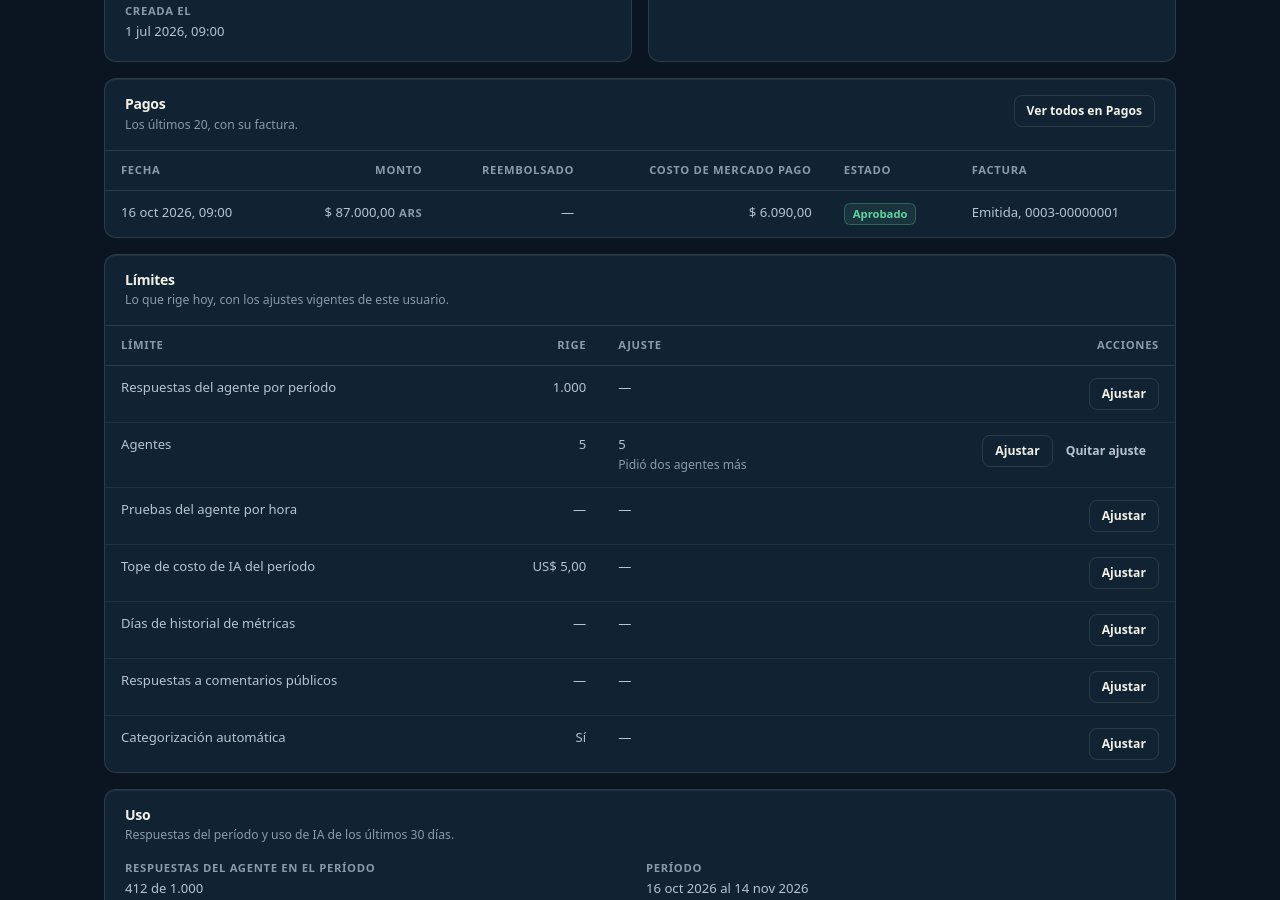
Test: CustomerDetailScreen › takes an override back with a reason and loads the detail again
(page scrolled)
Step 1. Click the button with aria-label "Quitar el ajuste de agentes" → (1106, 451), box [1053,435,1159,467]
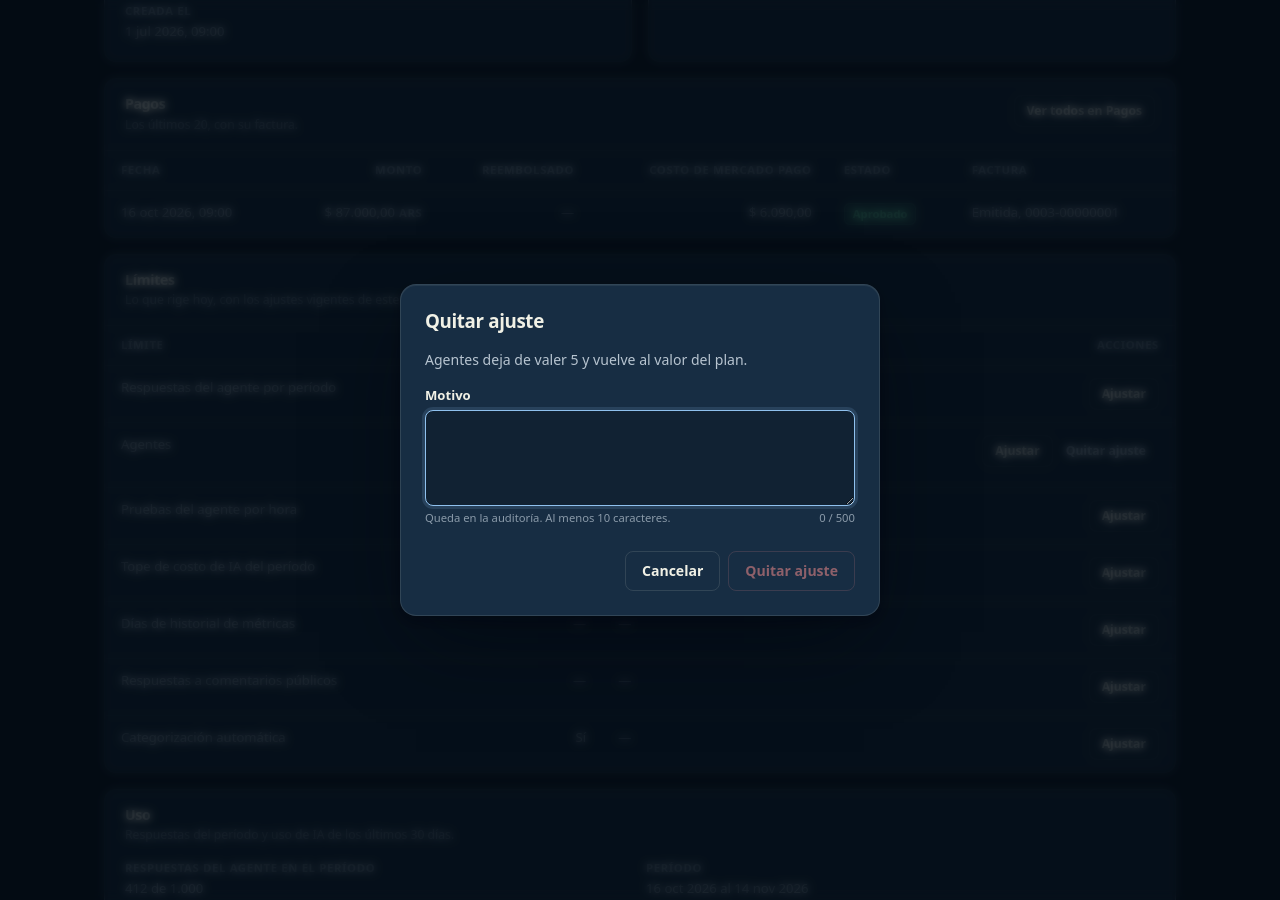
Now the text "Agentes deja de valer 5 y vuelve al valor del plan." is shown, box [425,350,747,369]
Step 2. Type "Lo pidió el cliente por mail" into the text box labelled "Motivo" → (640, 458), box [425,410,855,506]
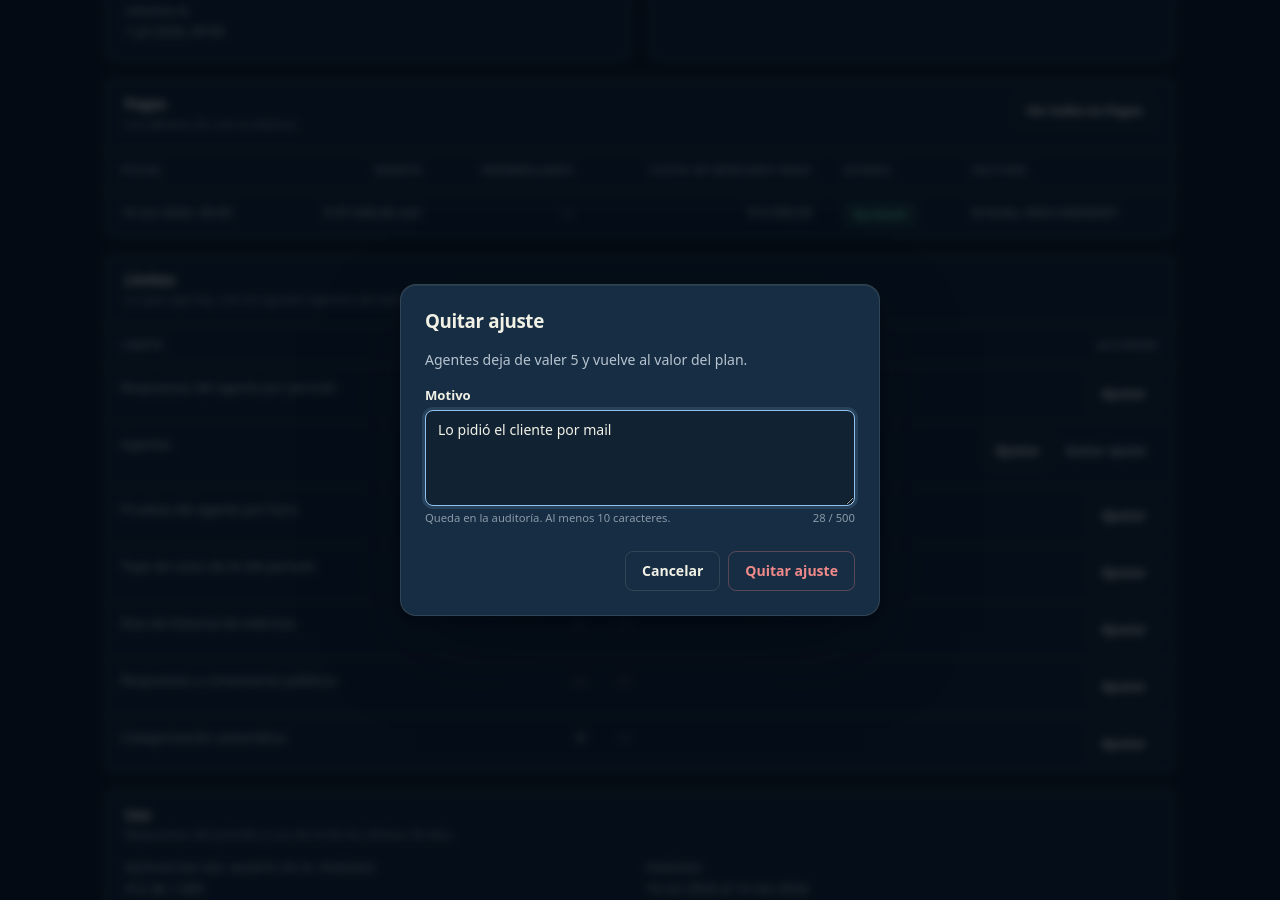
Step 3. Click the button "Quitar ajuste" → (792, 571), box [728,551,855,591]
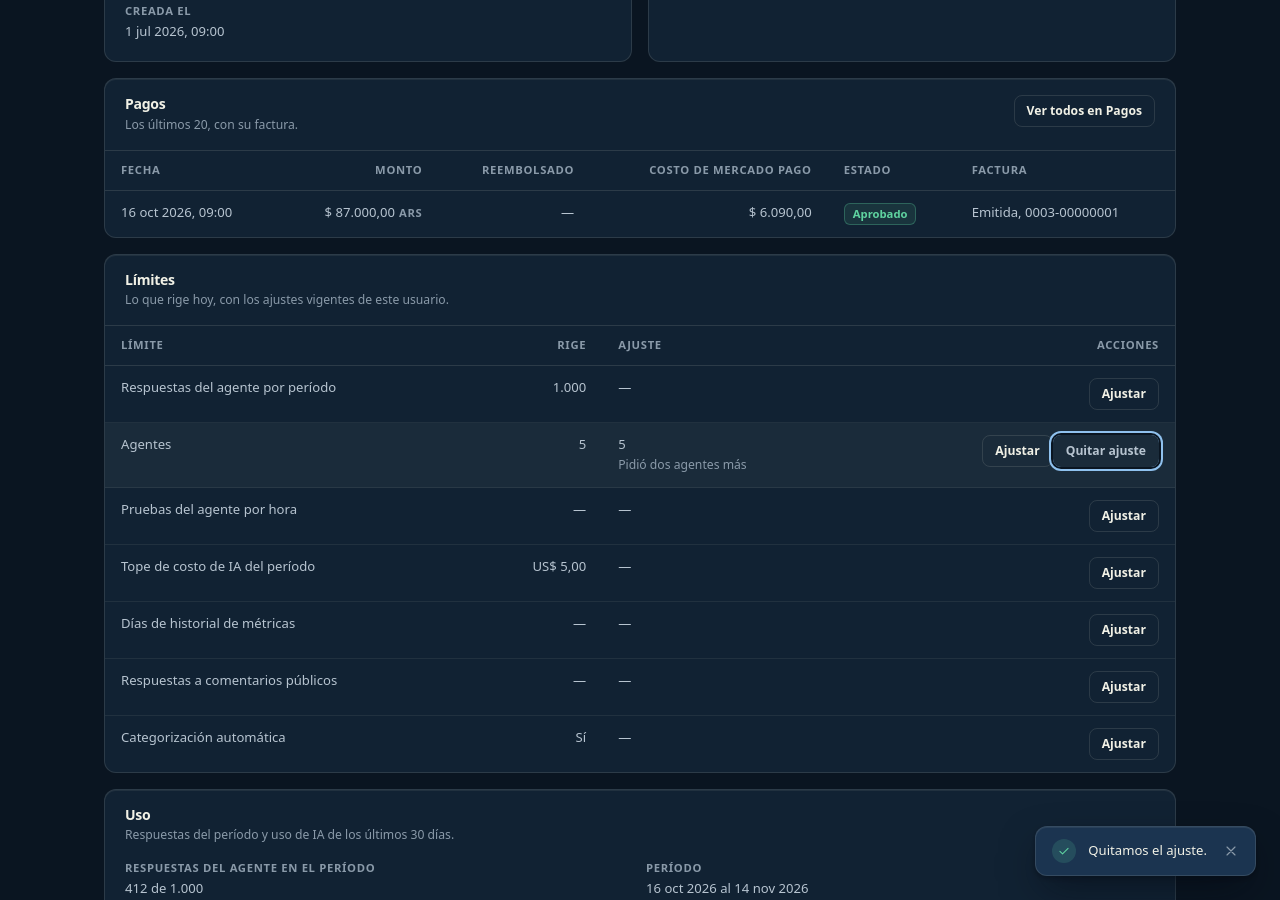
Now the text "Quitamos el ajuste." is shown, box [1088,841,1207,861]
